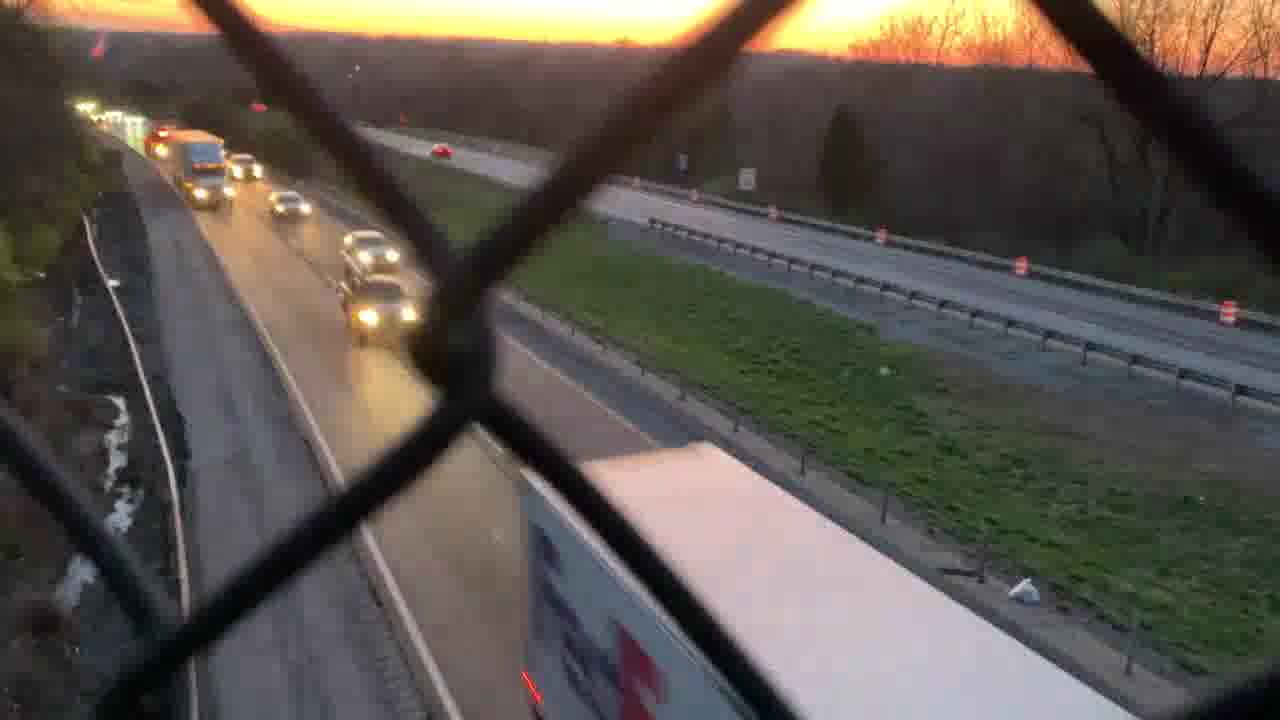heavyTruck: (511, 445, 1129, 720), (164, 133, 237, 212)
smallCar: (267, 187, 314, 220), (427, 143, 452, 160)
